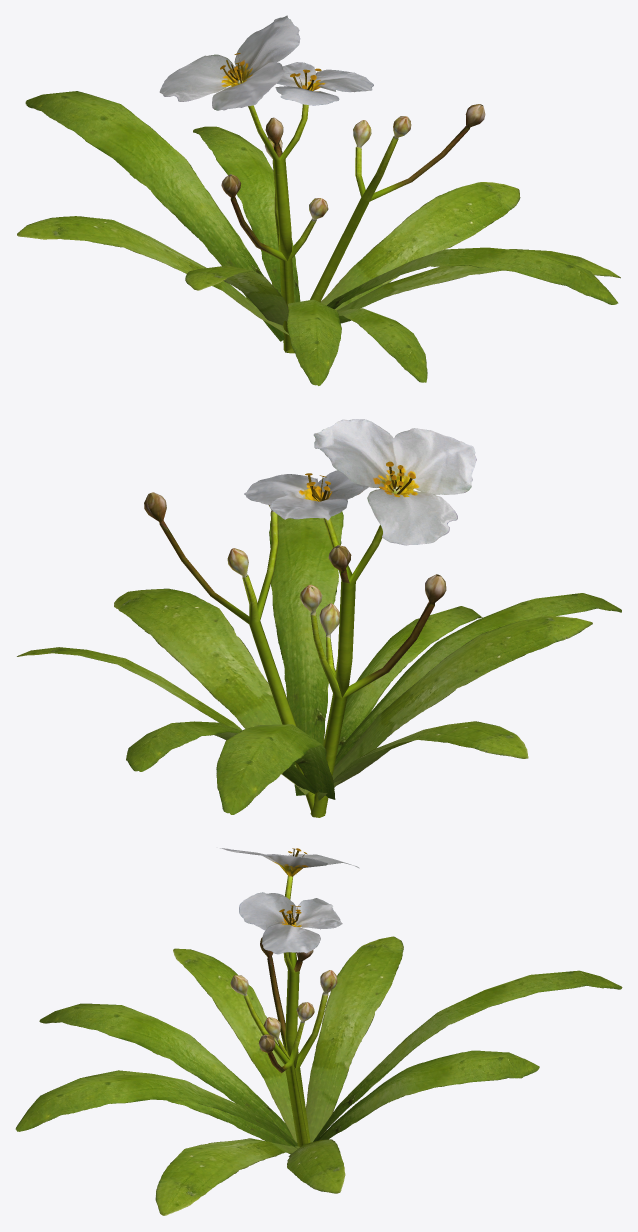
File: Urikawa.fbx
3 renders of one model, top to bottom at view 1: azimuth 30°, elevation 25°; view 2: azimuth 150°, elevation 25°; view 3: azimuth 270°, elevation 25°, orthographic. The views are drawn at different scales.
Parts seen in each view (by area): view 1: polySurface880__urikawa_m; view 2: polySurface880__urikawa_m; view 3: polySurface880__urikawa_m.
Boxes of the visible parts, <box> form: polySurface880__urikawa_m: <box>17,15,620,385</box>; polySurface880__urikawa_m: <box>17,419,621,817</box>; polySurface880__urikawa_m: <box>15,848,622,1215</box>.
Size of the model in its own units: 15350 by 10169 by 18182.
